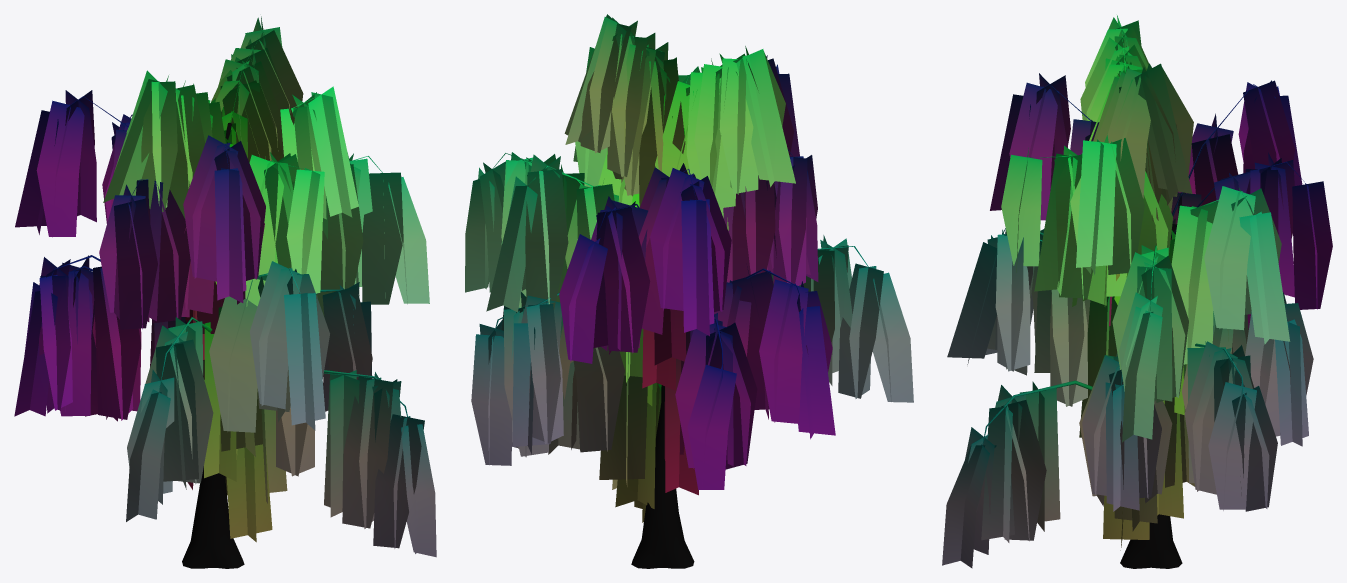
Rendered from Tree_7_2.fbx.
3 renders of one model, left to right at view 1: azimuth 30°, elevation 25°; view 2: azimuth 150°, elevation 25°; view 3: azimuth 270°, elevation 25°, orthographic. The views are drawn at different scales.
Parts seen in each view (by area): view 1: _2; view 2: _2; view 3: _2.
Part boxes in pixels (bbox=[...]): _2: bbox=[14, 16, 436, 568]; _2: bbox=[465, 14, 913, 568]; _2: bbox=[942, 15, 1332, 568].
Size of the model in its own units: 948 by 1236 by 841.
